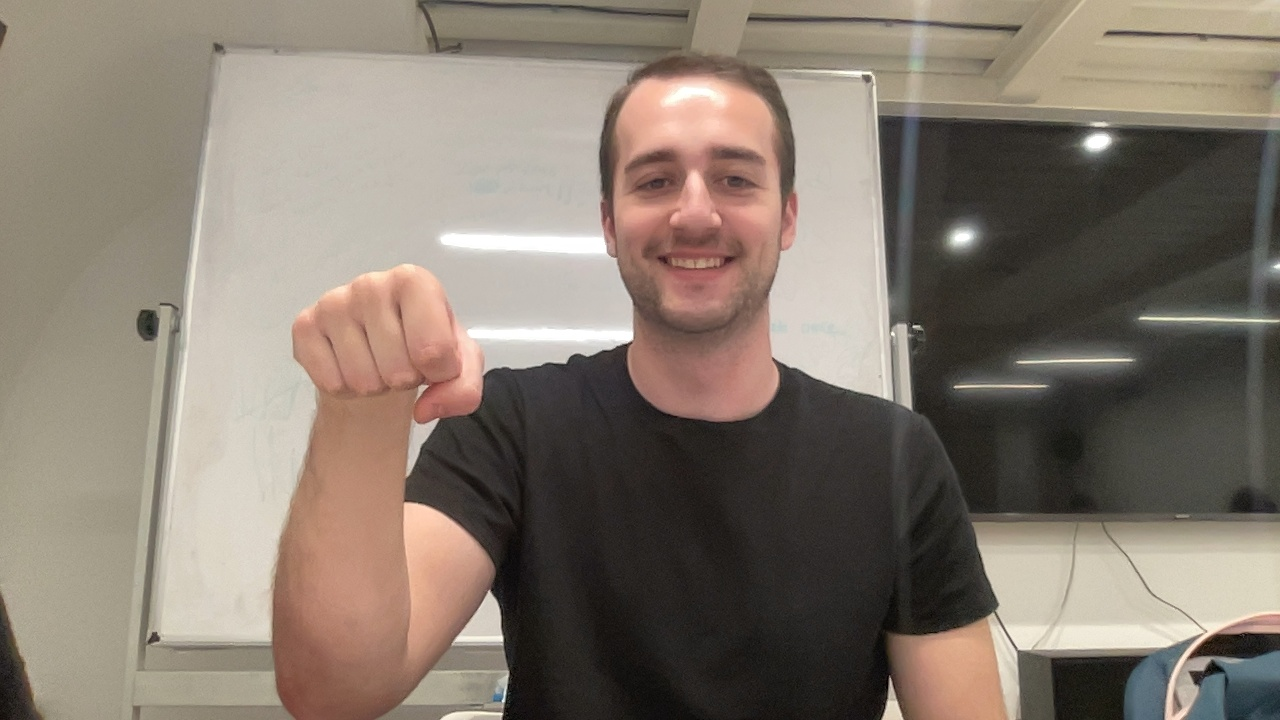Yes: (287, 259, 488, 473)
